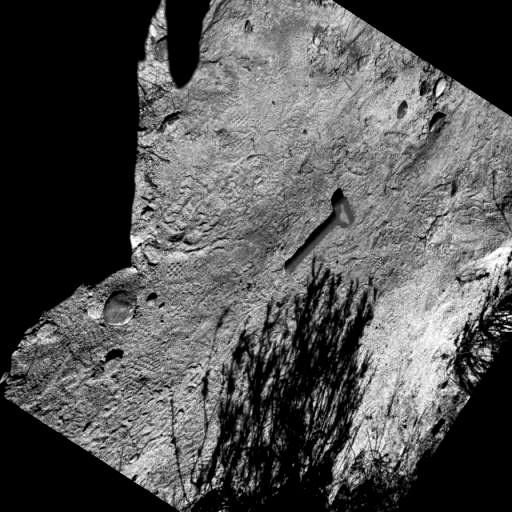mallet: (281, 189, 363, 289)
